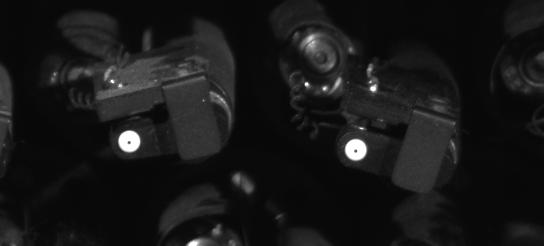fiber: (336, 135, 376, 167), (112, 125, 147, 159)
